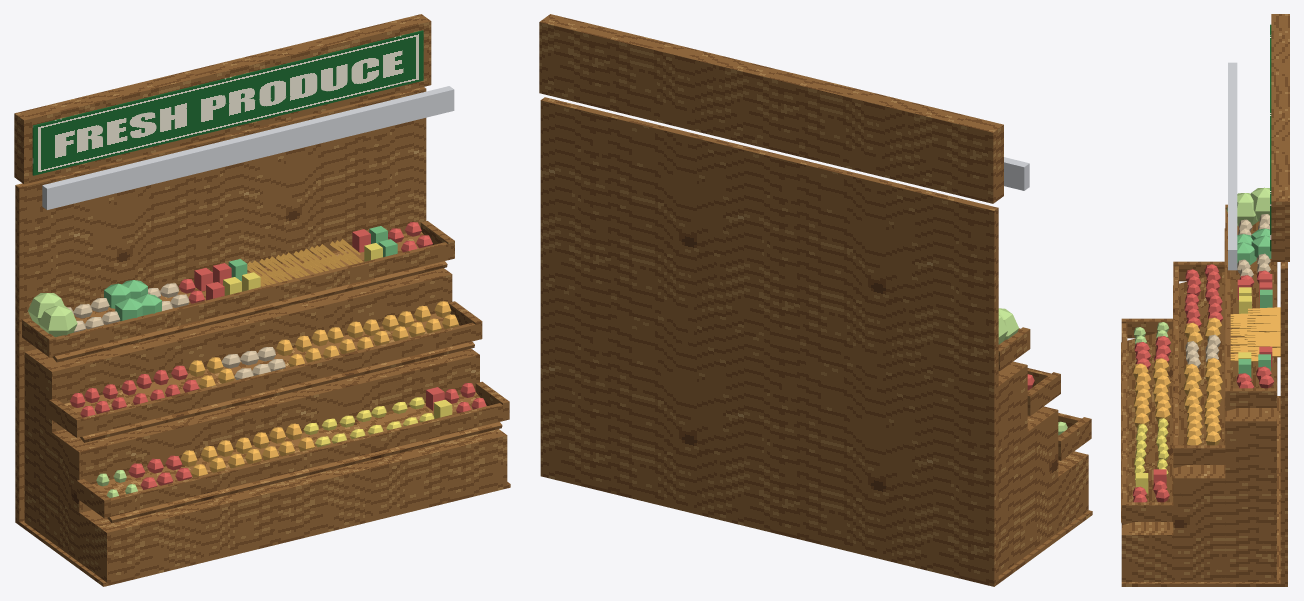
File: MKT_ProduceWall.glb
The picture shows the model from 3 angles, left to right: view 1: azimuth 30°, elevation 25°; view 2: azimuth 150°, elevation 25°; view 3: azimuth 270°, elevation 25°; orthographic projection. The views are drawn at different scales.
Visible parts, largest first — view 1: ProduceWall; view 2: ProduceWall; view 3: ProduceWall.
Boxes of the visible parts, bbox=[...] form: ProduceWall: bbox=[14, 14, 510, 586]; ProduceWall: bbox=[539, 14, 1092, 586]; ProduceWall: bbox=[1121, 14, 1289, 586].
Size of the model in its own units: 2.4 by 2.3 by 0.9128.
Materials: 9 (2 with a texture image).
